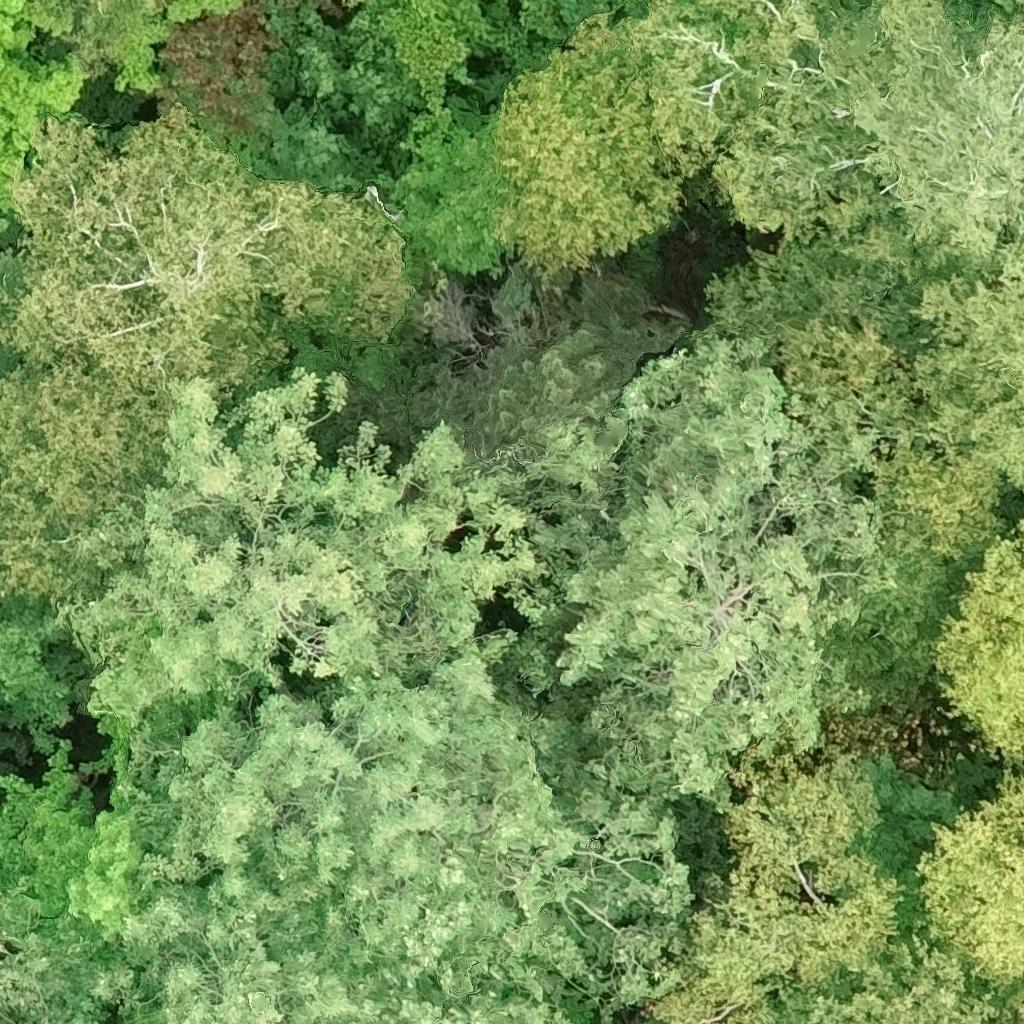crown: (97, 658, 690, 1023), (528, 342, 890, 802), (74, 367, 538, 725), (3, 107, 408, 413), (649, 237, 977, 523), (626, 0, 955, 277), (659, 761, 905, 1023), (811, 437, 1012, 703), (0, 747, 225, 983), (494, 13, 684, 275), (856, 0, 1023, 287), (0, 363, 177, 613), (355, 0, 650, 116), (82, 665, 265, 817), (919, 235, 1023, 488), (916, 776, 1023, 979), (475, 331, 634, 459), (937, 541, 1023, 757), (809, 941, 995, 1023), (0, 51, 81, 218), (0, 592, 77, 732), (0, 927, 109, 1023), (940, 0, 1021, 26), (0, 0, 28, 69), (91, 0, 165, 25), (1008, 521, 1023, 550), (0, 568, 7, 608), (1018, 995, 1023, 1023), (0, 926, 3, 961)
